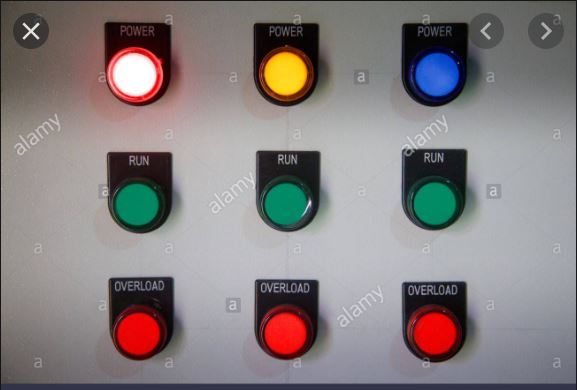Blue_Led_Off: (410, 49, 466, 105)
Green_Led_Off: (257, 173, 315, 231), (406, 174, 462, 232), (111, 180, 165, 230)
Red_Led_Off: (402, 303, 464, 362), (256, 304, 316, 359), (111, 305, 166, 360)
Red_Led_On: (103, 44, 167, 104)
Yellow_Led_Off: (258, 44, 315, 104)
